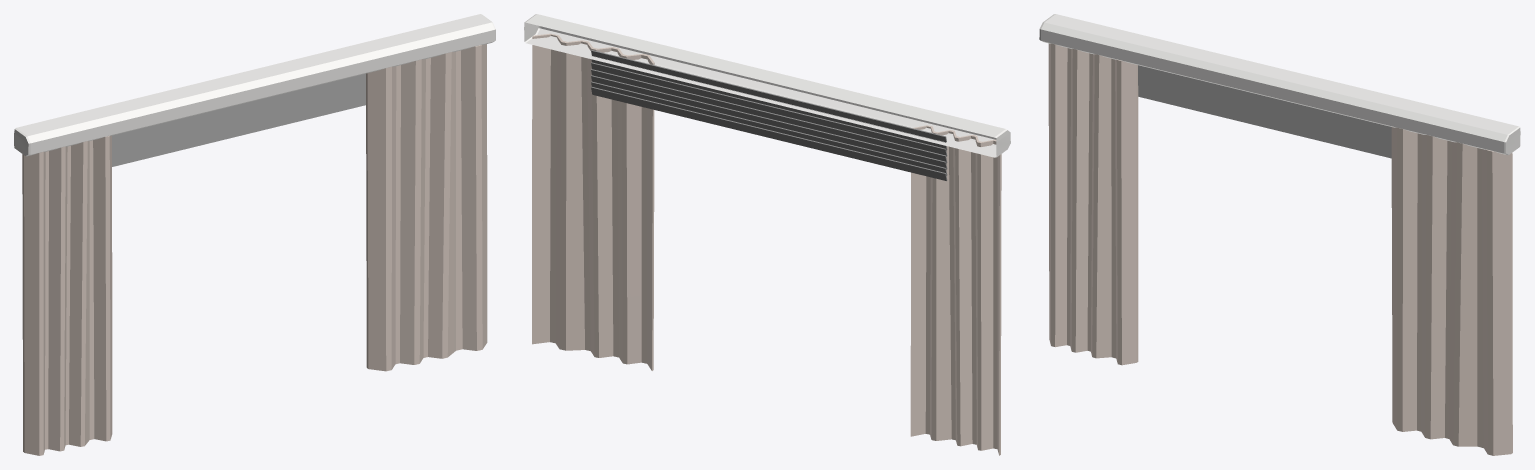
Rendered from Curtains_4_231109.glb.
3 views of the same model, side by side, from view 1: azimuth 30°, elevation 25°; view 2: azimuth 150°, elevation 25°; view 3: azimuth 330°, elevation 25° (orthographic).
Parts seen in each view (by area): view 1: Curtains_4; view 2: Curtains_4; view 3: Curtains_4.
Part boxes in pixels (left/top/right/bottom): Curtains_4: left=14, top=14, right=495, bottom=455; Curtains_4: left=524, top=14, right=1010, bottom=455; Curtains_4: left=1039, top=14, right=1520, bottom=455.
Bounding box in the file's own units: 4.8 × 3.16 × 0.262.
1 material, 1 textured.
